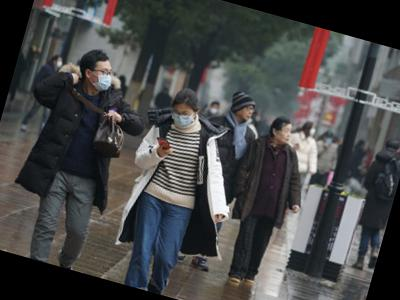with_mask: (88, 63, 118, 95), (169, 104, 197, 130), (53, 58, 65, 72)
without_mask: (276, 124, 294, 145), (239, 103, 257, 121)
